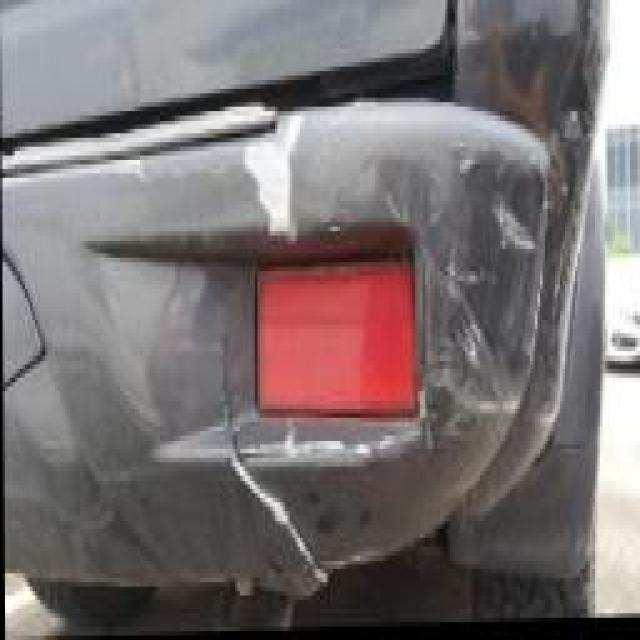Bumper: (142, 95, 598, 592)
